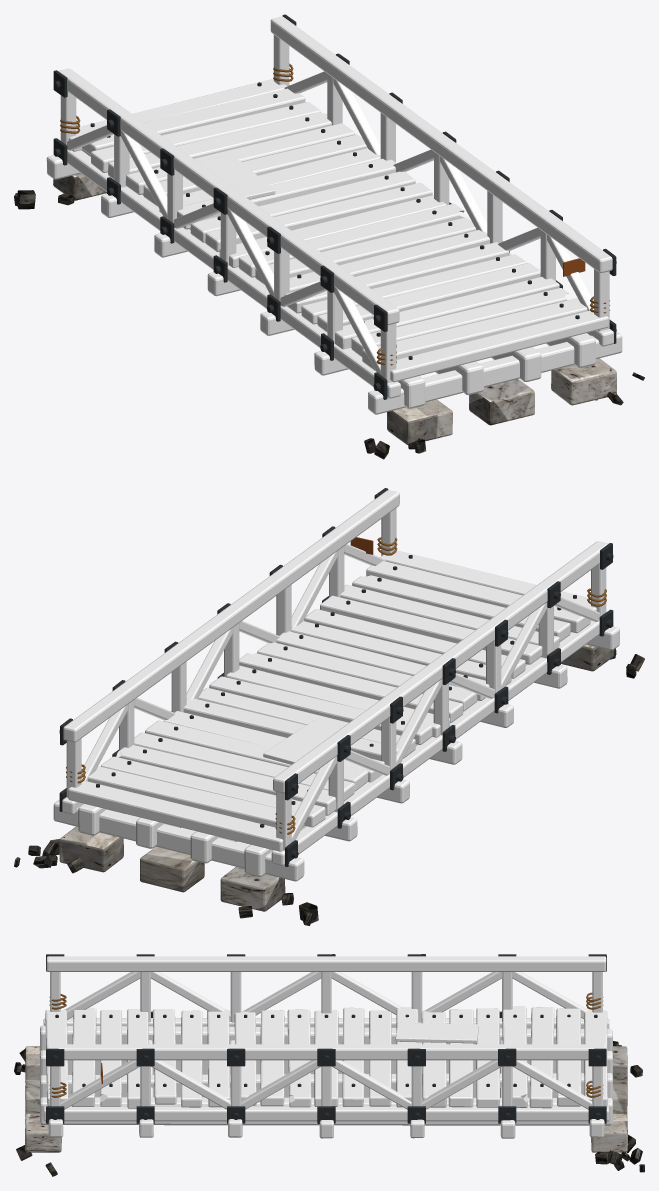
Rendered from bridge_wood_8x3m_LOD0.glb.
The picture shows the model from 3 angles, top to bottom: view 1: azimuth 30°, elevation 25°; view 2: azimuth 150°, elevation 25°; view 3: azimuth 270°, elevation 25°; orthographic projection. The views are drawn at different scales.
Parts seen in each view (by area): view 1: UpperTrussChord.001, UpperTrussChord, LowerTrussChord, DeckPlank, CrossBeam, DeckPlank.001, DeckPlank.011, DeckPlank.003, DeckPlank.019, DeckPlank.004, DeckPlank.009, DeckPlank.008 (+38 smaller); view 2: UpperTrussChord.001, UpperTrussChord, LowerTrussChord, DeckPlank.020, CrossBeam.006, DeckPlank.019, DeckPlank.017, DeckPlank.004, DeckPlank.001, DeckPlank.009, DeckPlank.011, DeckPlank.018 (+38 smaller); view 3: UpperTrussChord, UpperTrussChord.001, LowerTrussChord.001, TarredLongitudinalStringer.003, DeckPlank.019, TarredLongitudinalStringer, DeckPlank.018, TarredLongitudinalStringer.002, DeckPlank.008, DeckPlank.016, DeckPlank.001, DeckPlank.009 (+53 smaller).
Boxes of the visible parts, x1,y1,x2,y2 form: UpperTrussChord.001: (270,16,612,272); UpperTrussChord: (58,68,399,324); LowerTrussChord: (67,149,400,398); DeckPlank: (390,309,608,382); CrossBeam: (368,331,622,414); DeckPlank.001: (362,298,587,370); DeckPlank.011: (205,182,432,251); DeckPlank.003: (335,276,559,349); DeckPlank.019: (82,88,305,154); DeckPlank.004: (317,263,540,332); DeckPlank.009: (238,203,466,277); DeckPlank.008: (255,217,476,284); UpperTrussChord.001: (63,490,399,742); UpperTrussChord: (273,541,608,793); LowerTrussChord: (271,621,599,865); DeckPlank.020: (68,780,283,851); CrossBeam.006: (53,799,304,881); DeckPlank.019: (88,766,304,827); DeckPlank.017: (116,745,336,815); DeckPlank.004: (320,595,542,664); DeckPlank.001: (366,561,590,633); DeckPlank.009: (239,653,463,723); DeckPlank.011: (209,676,432,744); DeckPlank.018: (100,756,325,827); UpperTrussChord: (46,956,606,971); UpperTrussChord.001: (46,1044,606,1060); LowerTrussChord.001: (43,1106,609,1121); TarredLongitudinalStringer.003: (40,1097,612,1125); DeckPlank.019: (556,1008,581,1106); TarredLongitudinalStringer: (39,1025,612,1051); DeckPlank.018: (529,1007,554,1108); TarredLongitudinalStringer.002: (39,1073,612,1098); DeckPlank.008: (260,1010,284,1106); DeckPlank.016: (476,1008,499,1107); DeckPlank.001: (71,1007,96,1106); DeckPlank.009: (287,1009,311,1107).
Bounding box in the file's own units: 3.99 × 1.74 × 8.65.
7 materials, 2 textured.
